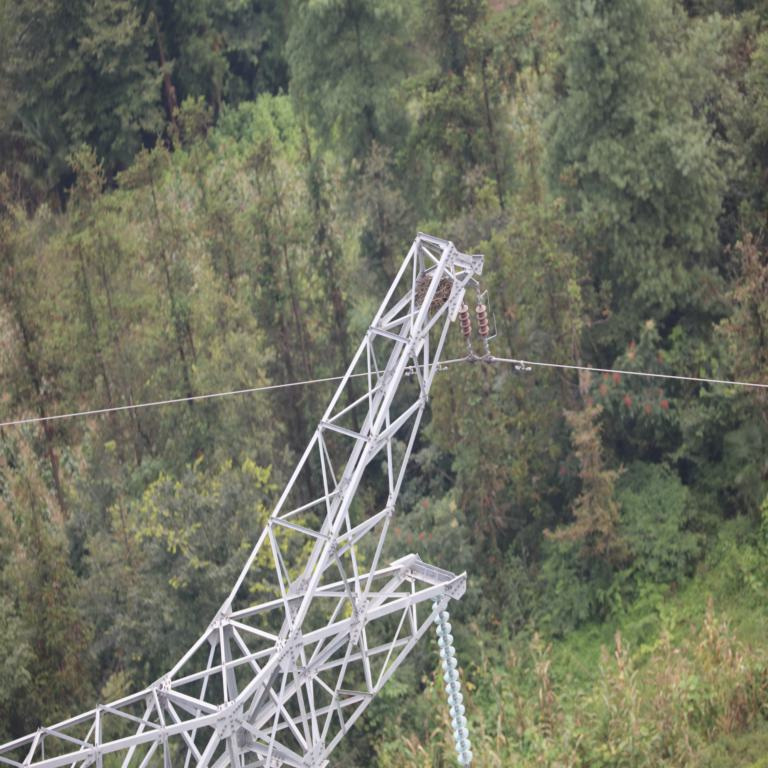nest: (414, 274, 451, 311)
